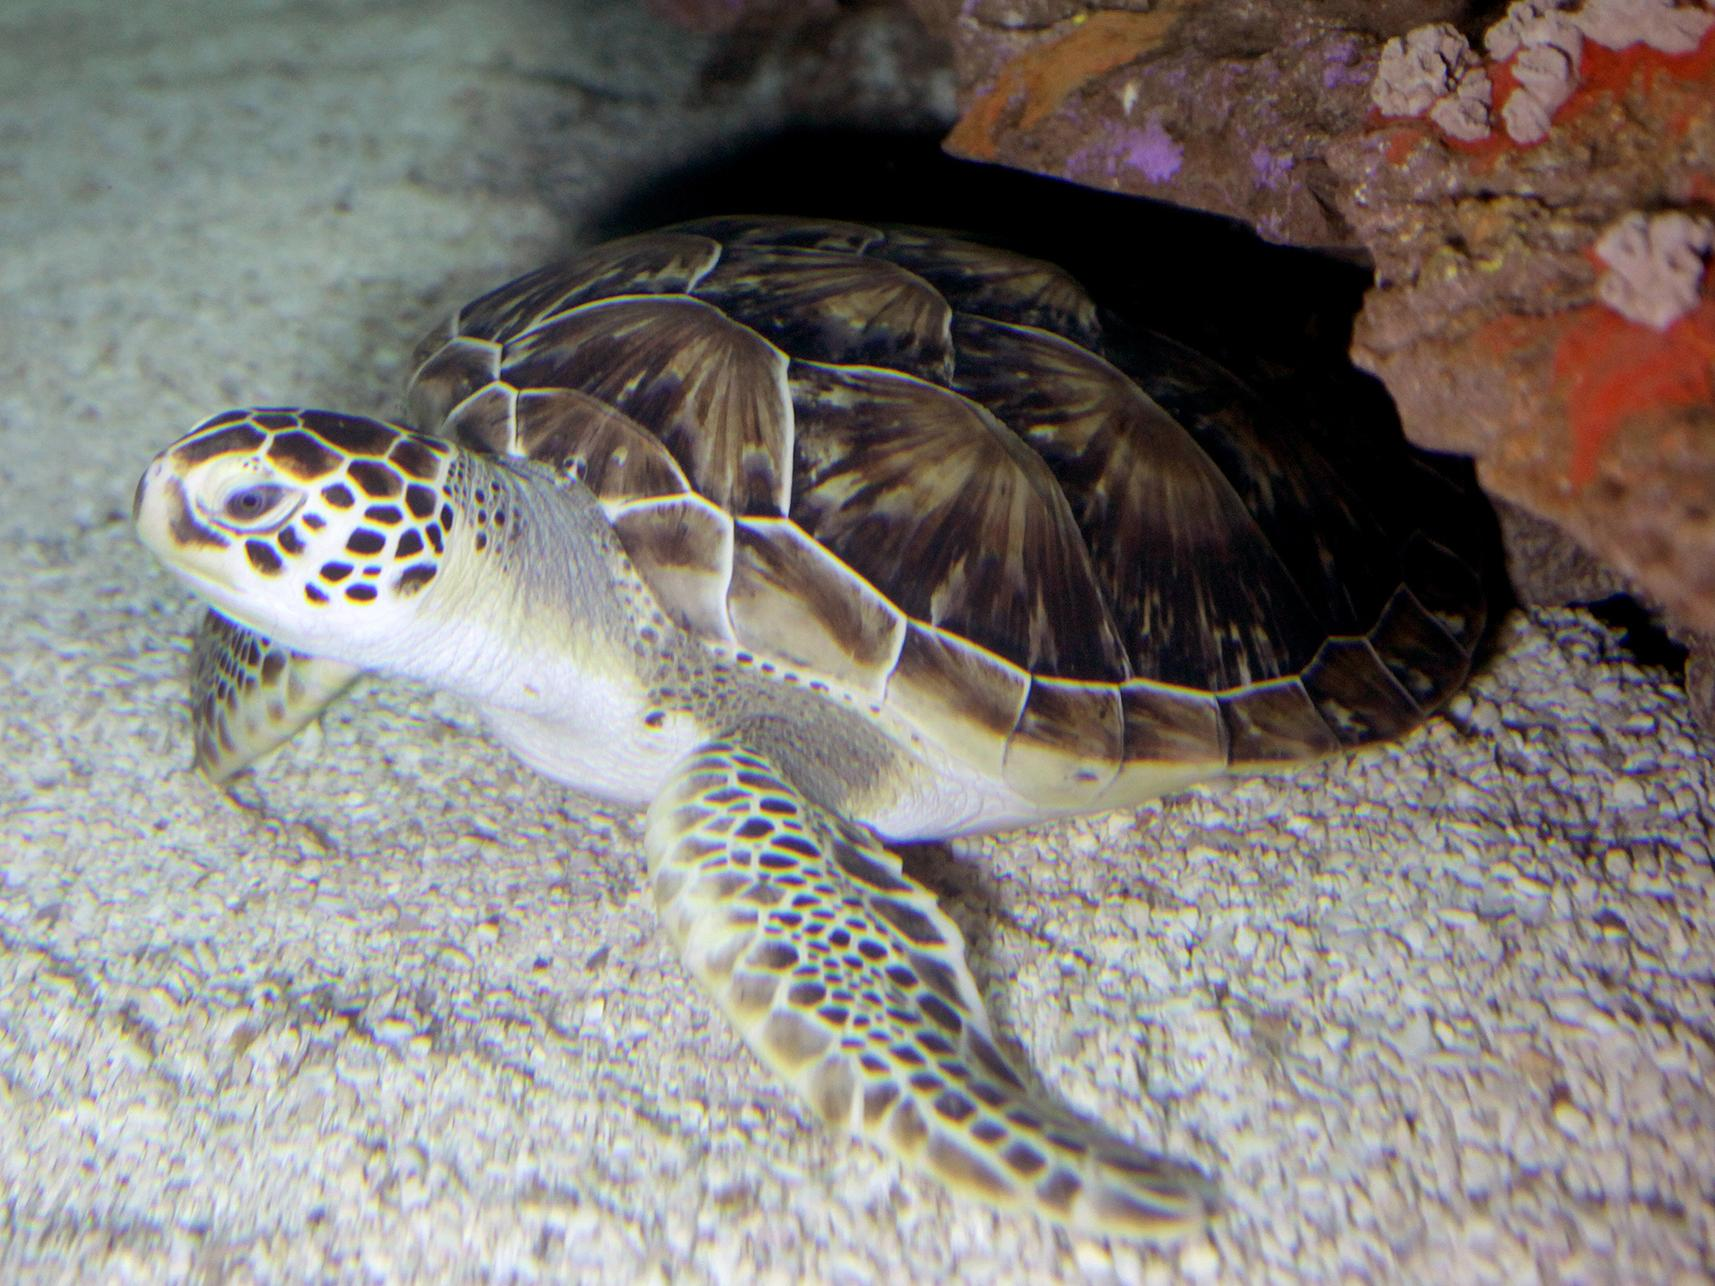turtle: (96, 374, 516, 679)
